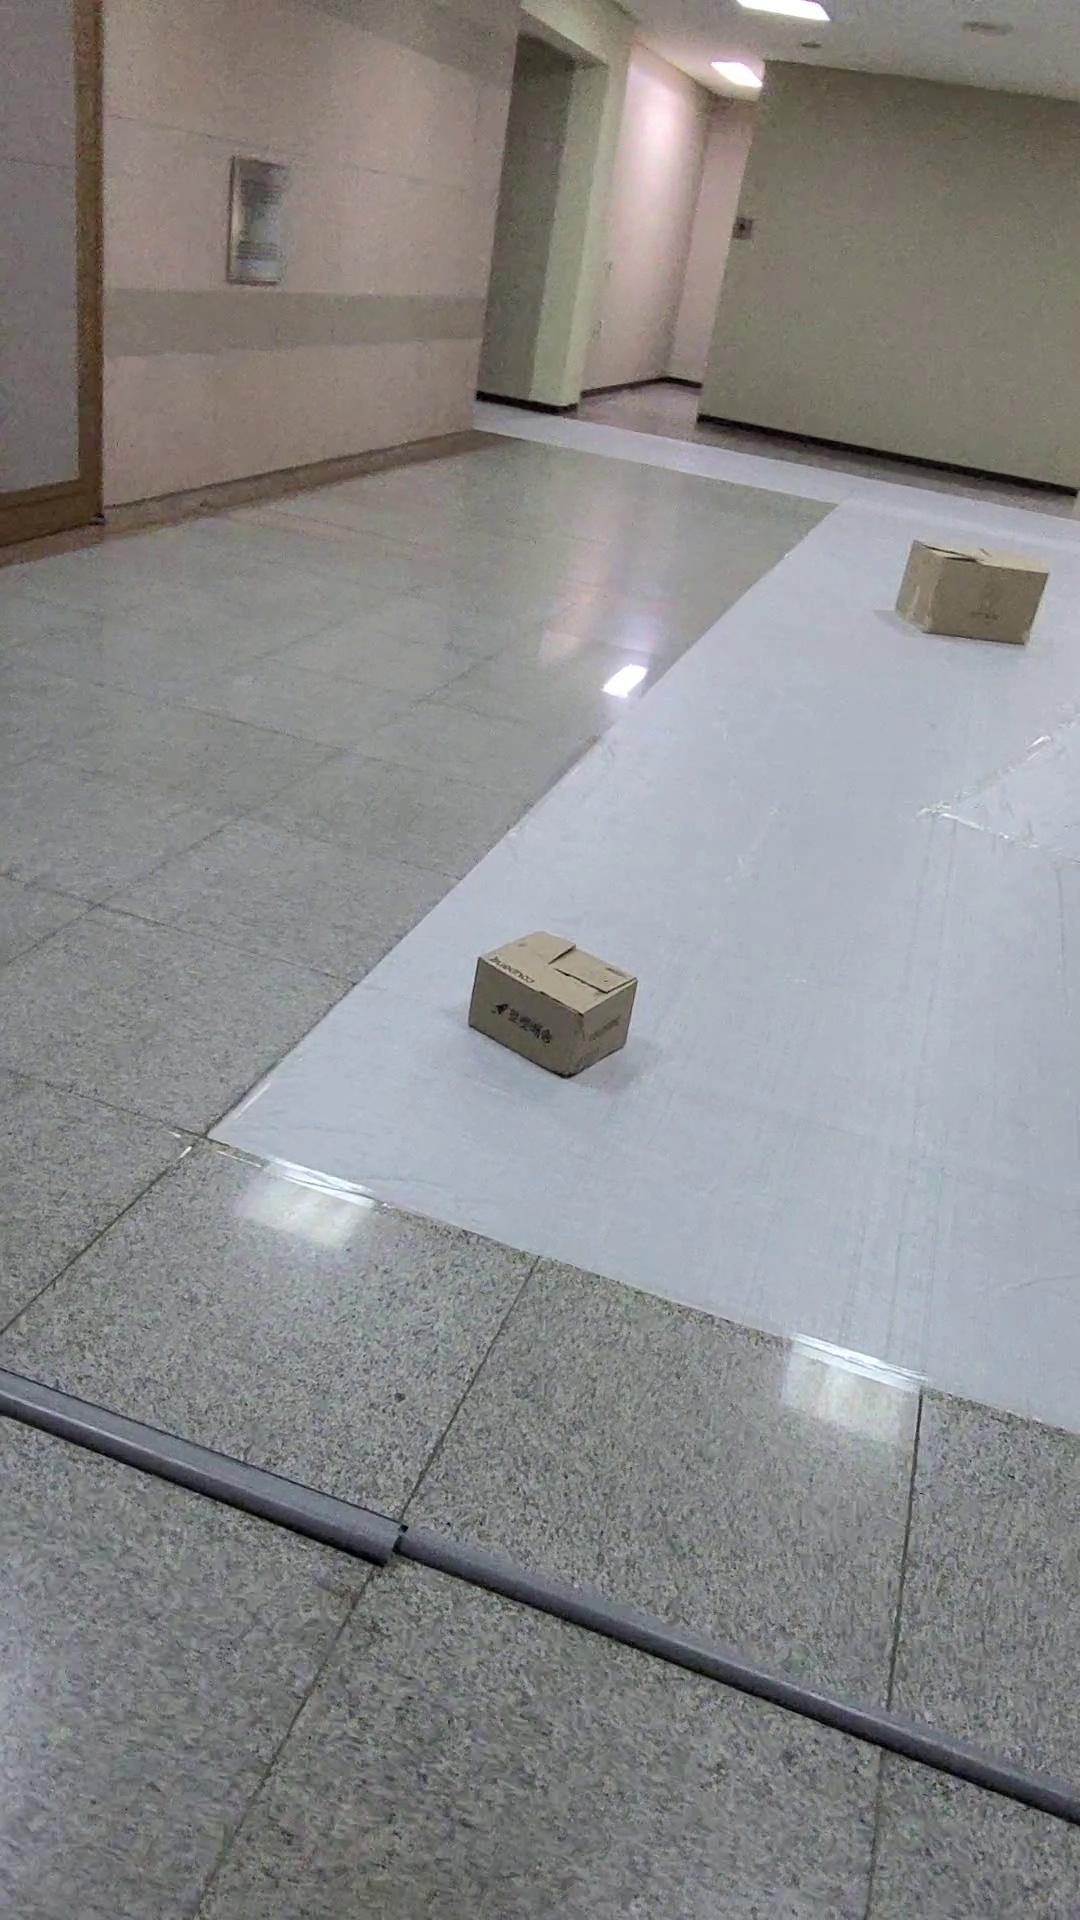Box: (448, 885, 642, 1095), (856, 513, 1072, 694)
